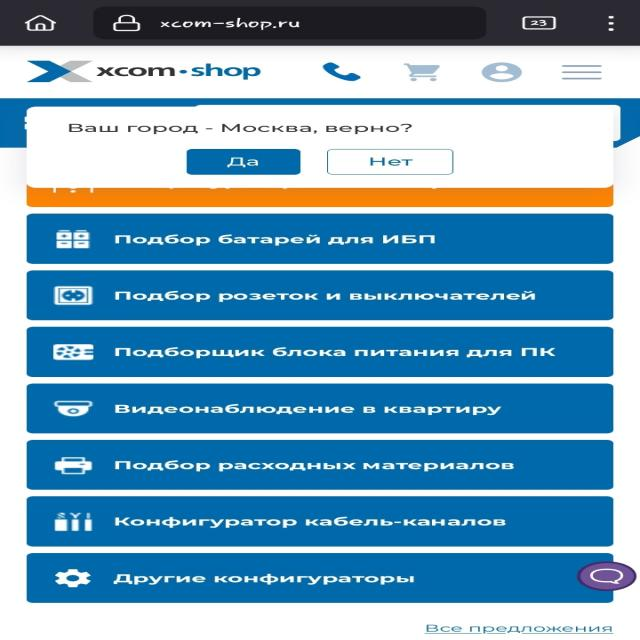button: (329, 148, 457, 176), (185, 150, 302, 176)
site: (29, 106, 616, 188)
